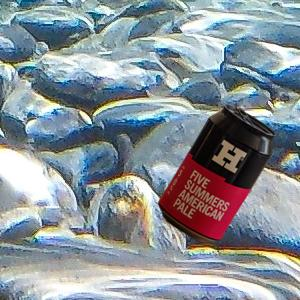can: (158, 105, 275, 244)
